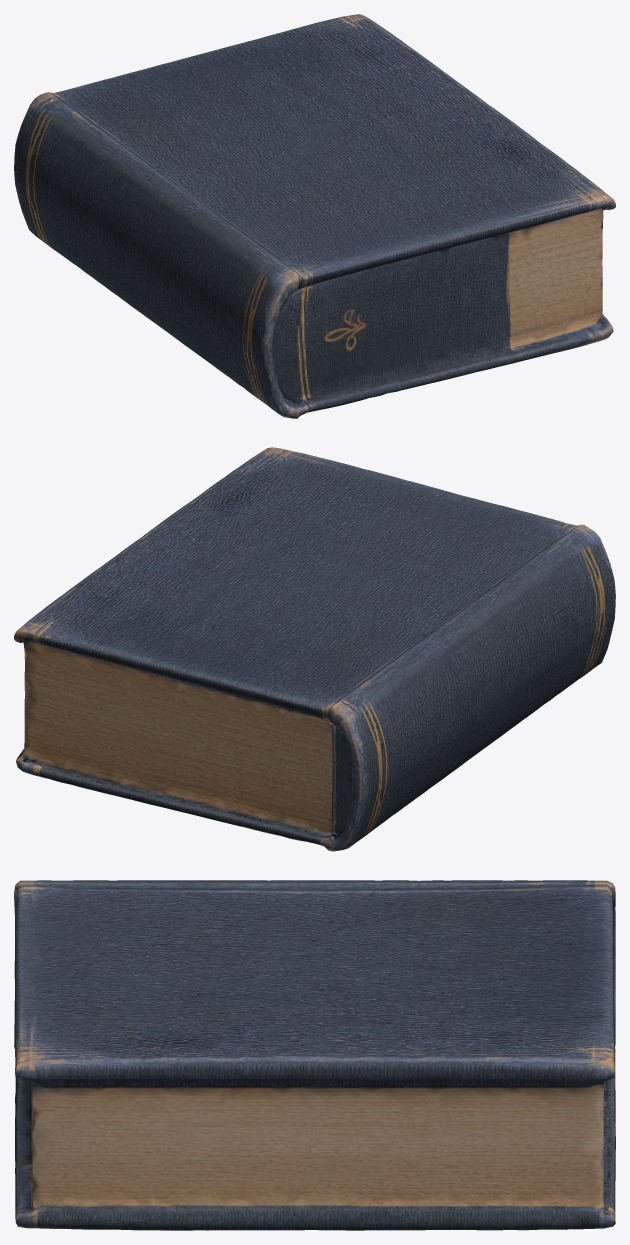
The model's file is Prop_Book5.fbx.
The picture shows the model from 3 angles, top to bottom: view 1: azimuth 30°, elevation 25°; view 2: azimuth 150°, elevation 25°; view 3: azimuth 270°, elevation 25°; orthographic projection. The views are drawn at different scales.
Visible parts, largest first — view 1: texture_mapping; view 2: texture_mapping; view 3: texture_mapping.
Boxes of the visible parts, bbox=[...] form: texture_mapping: bbox=[14, 14, 615, 418]; texture_mapping: bbox=[14, 447, 615, 851]; texture_mapping: bbox=[14, 880, 615, 1230].
Size of the model in its own units: 0.7999 by 1 by 0.3234.
1 material, 1 textured.
